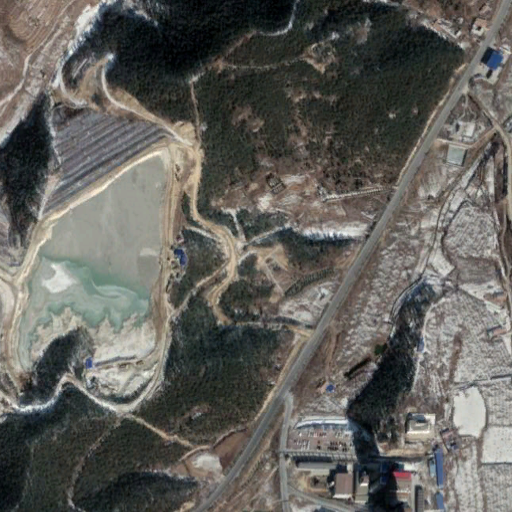tp: (11, 103, 176, 373)
